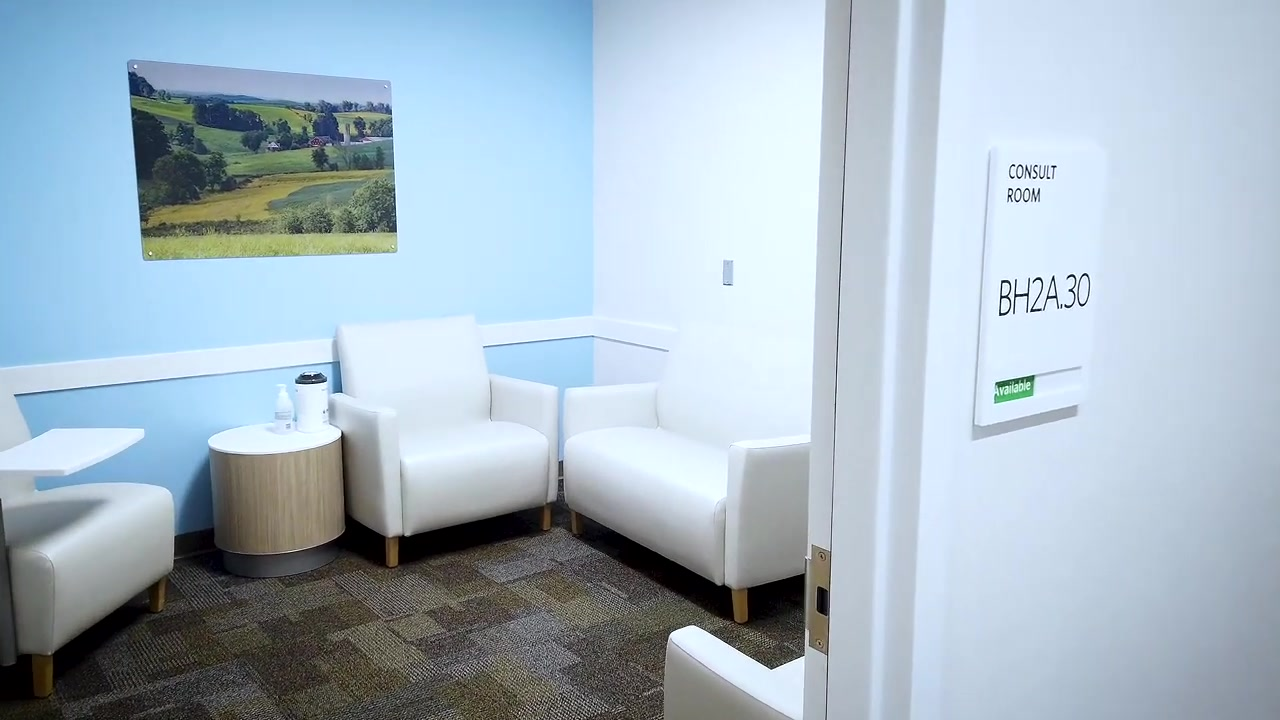dispenser: (269, 381, 297, 430)
sofa: (569, 341, 809, 623), (1, 365, 176, 695), (330, 317, 560, 568), (661, 621, 808, 720)
table: (206, 422, 348, 579)
